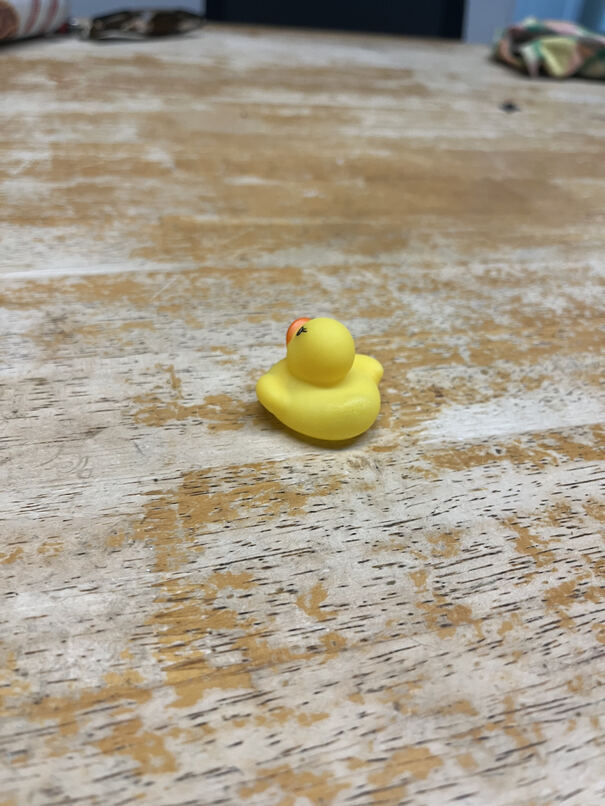duck_regular: (254, 316, 402, 440)
